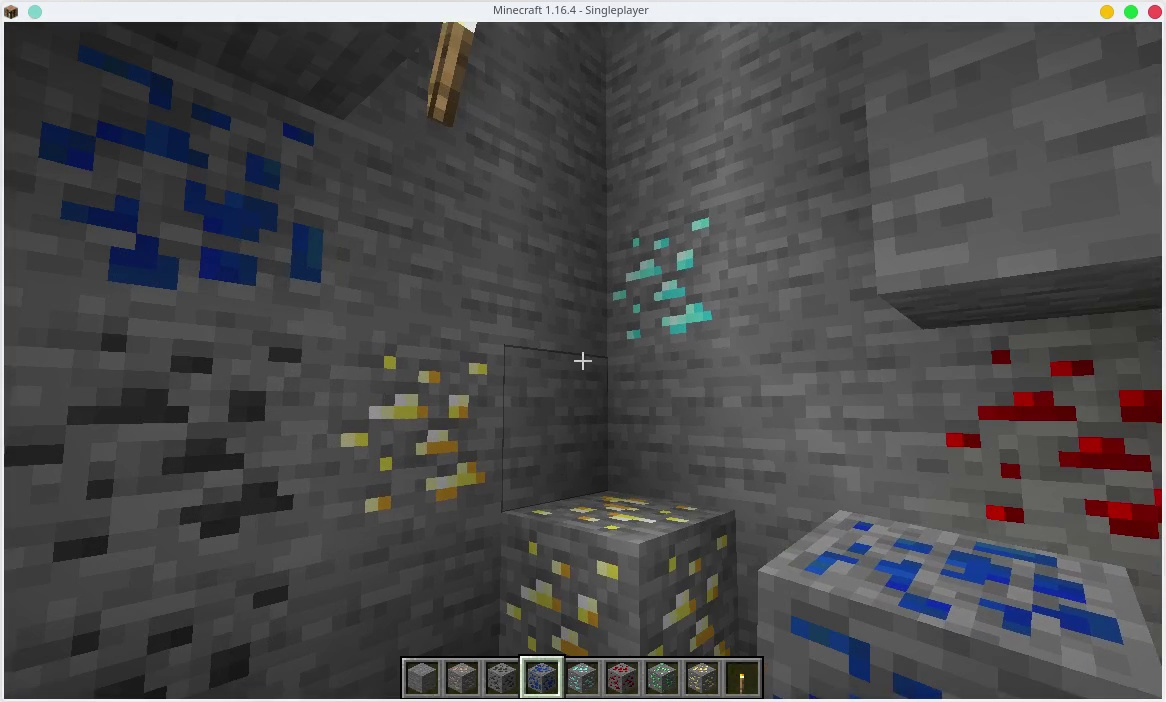gold: (503, 495, 742, 658), (348, 345, 501, 517), (687, 663, 715, 694)
